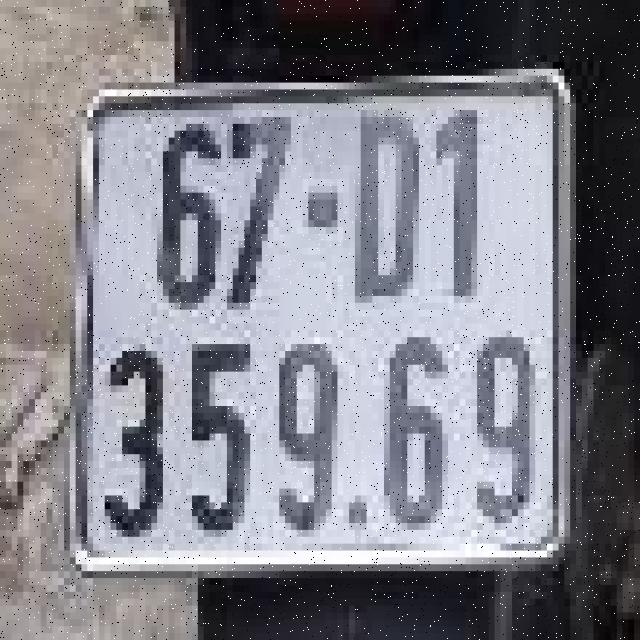1: (428, 90, 503, 316)
3: (105, 341, 180, 547)
5: (178, 320, 270, 533)
6: (372, 316, 460, 544), (140, 110, 221, 324)
7: (215, 100, 297, 313)
9: (268, 323, 349, 530), (471, 316, 541, 544)
D: (346, 93, 428, 313)
